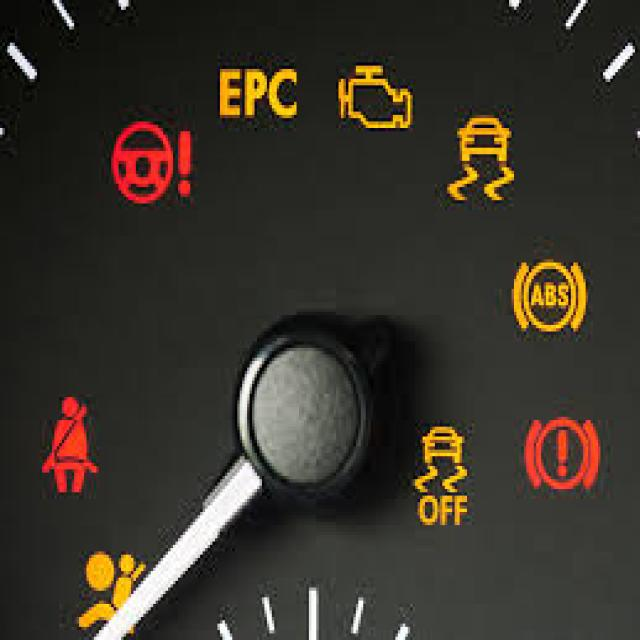kontrolka: (401, 414, 482, 540), (106, 113, 203, 212), (514, 404, 608, 502), (440, 108, 521, 215), (70, 533, 148, 635), (334, 53, 420, 141), (509, 253, 592, 341), (210, 59, 310, 127)
